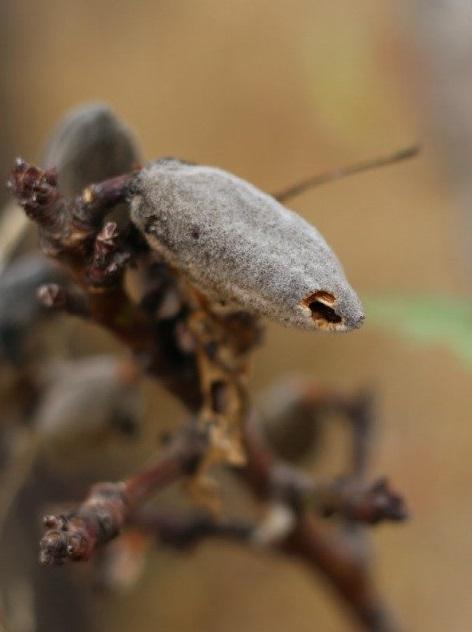mummified_fruits: (131, 158, 361, 331)
